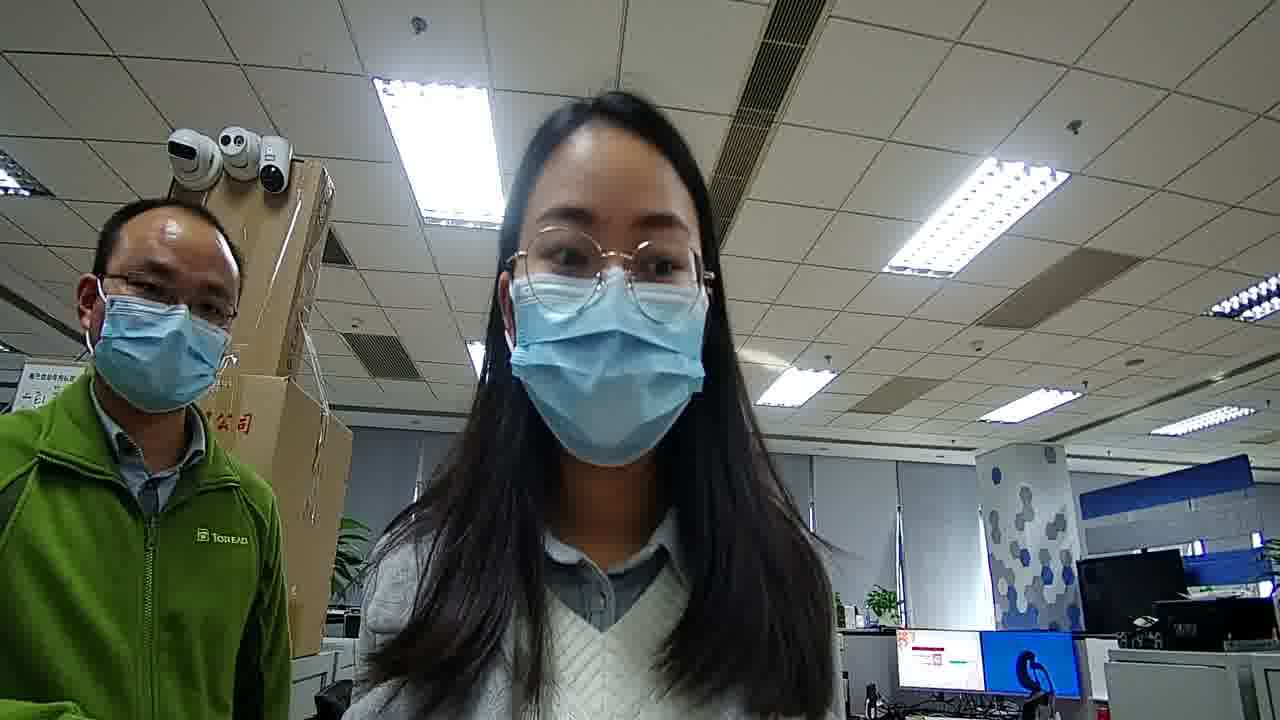face: (512, 149, 714, 473), (71, 228, 239, 415)
mask: (513, 269, 709, 470), (89, 293, 232, 415)
person: (351, 91, 846, 720), (1, 171, 288, 543)
